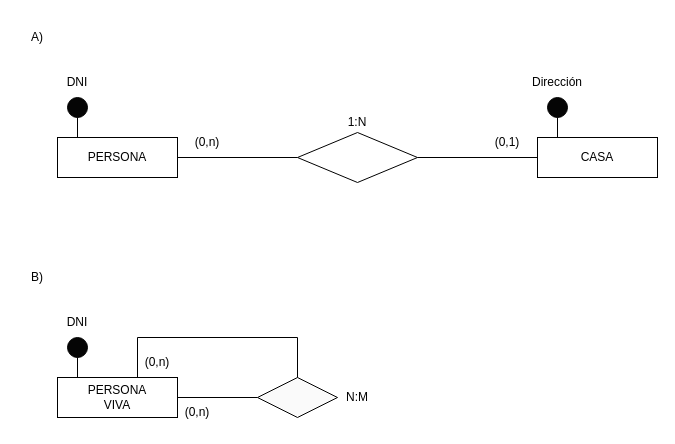
Image size: 675x444. Some labels were removed from this diagram. Each missing label, with the centre of its shape:
"EMPADRONADA" goes at pixel 357 157.
"ES HIJO" goes at pixel 297 397.
